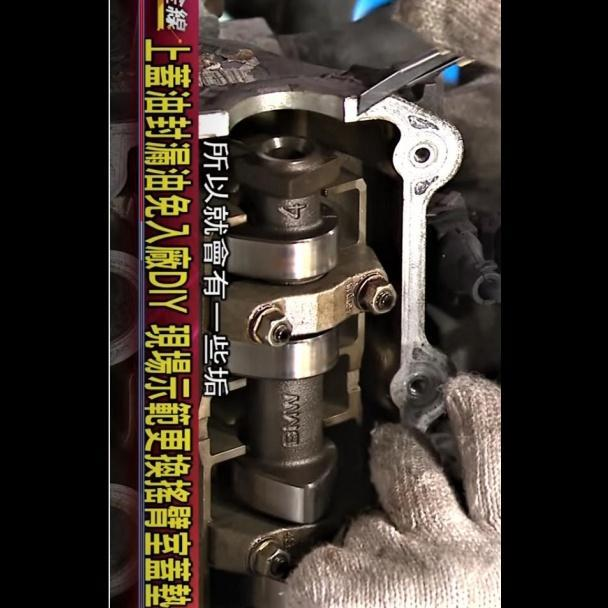hole: (406, 376, 427, 397), (412, 146, 431, 164)
